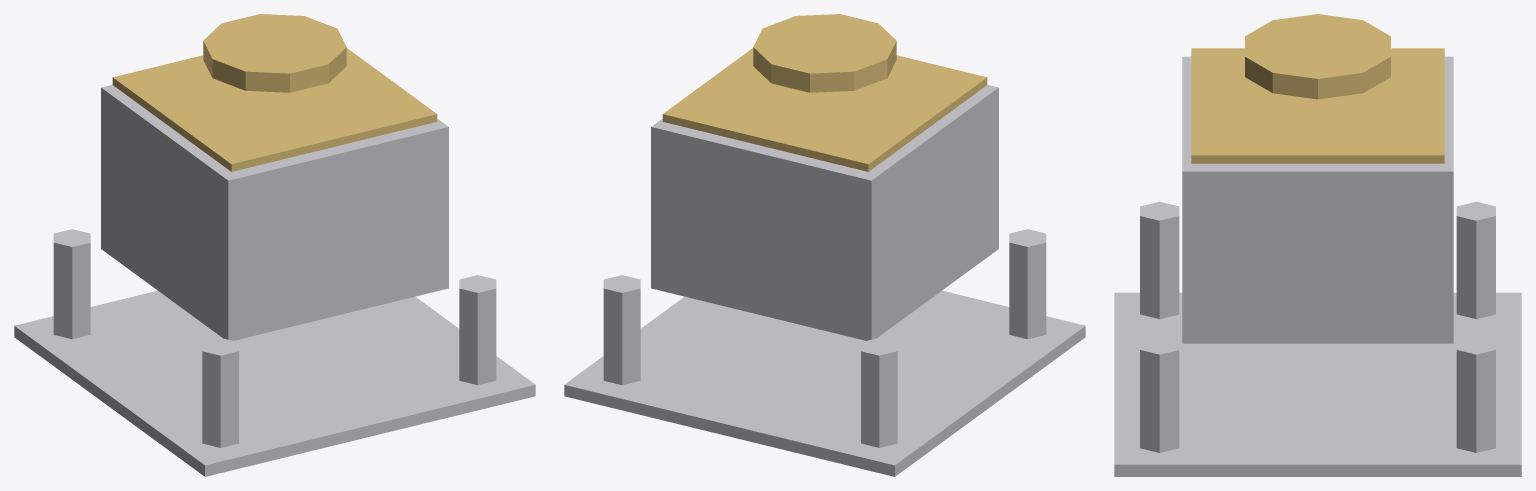
Rendered from moon-seismometer.gltf.
3 renders of one model, left to right at view 1: azimuth 30°, elevation 25°; view 2: azimuth 150°, elevation 25°; view 3: azimuth 270°, elevation 25°, orthographic. The views are drawn at different scales.
Visible parts, largest first — view 1: moon-seismometer, gold; view 2: moon-seismometer, gold; view 3: moon-seismometer, gold.
Part boxes in pixels (left/top/right/bottom): moon-seismometer: left=14, top=85, right=535, bottom=476; gold: left=112, top=14, right=437, bottom=171; moon-seismometer: left=564, top=85, right=1085, bottom=476; gold: left=662, top=14, right=987, bottom=171; moon-seismometer: left=1114, top=56, right=1521, bottom=476; gold: left=1191, top=14, right=1444, bottom=163.
Bounding box in the file's own units: 0.9 × 0.84 × 0.9.
